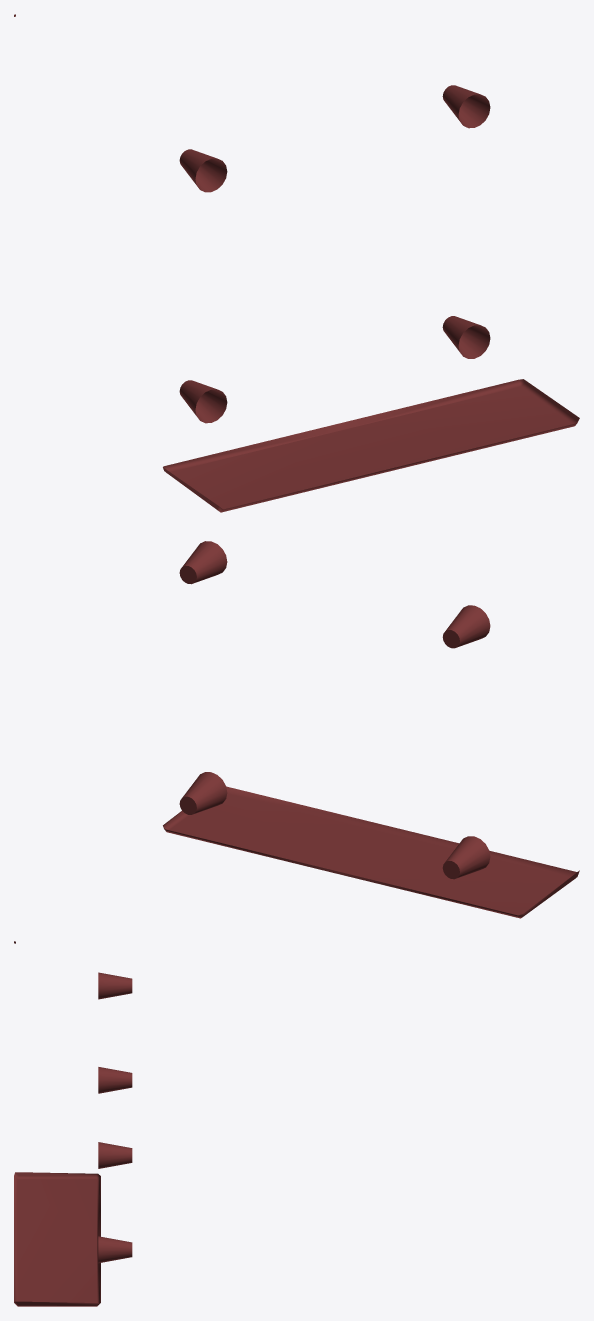
Rendered from AlarmClock_25_AlarmClock_25_0_GeomSubset_1.obj.
3 views of the same model, one above another, from view 1: azimuth 30°, elevation 25°; view 2: azimuth 150°, elevation 25°; view 3: azimuth 270°, elevation 25° (orthographic). The views are drawn at different scales.
Visible parts, largest first — view 1: AlarmClock_25_AlarmClock_25_0_GeomSubset_1; view 2: AlarmClock_25_AlarmClock_25_0_GeomSubset_1; view 3: AlarmClock_25_AlarmClock_25_0_GeomSubset_1.
Boxes of the visible parts, left/top/right/bottom form: AlarmClock_25_AlarmClock_25_0_GeomSubset_1: left=14, top=14, right=579, bottom=512; AlarmClock_25_AlarmClock_25_0_GeomSubset_1: left=14, top=541, right=579, bottom=943; AlarmClock_25_AlarmClock_25_0_GeomSubset_1: left=14, top=972, right=132, bottom=1306.
Bounding box in the file's own units: 0.1709 × 0.1369 × 0.3161.
